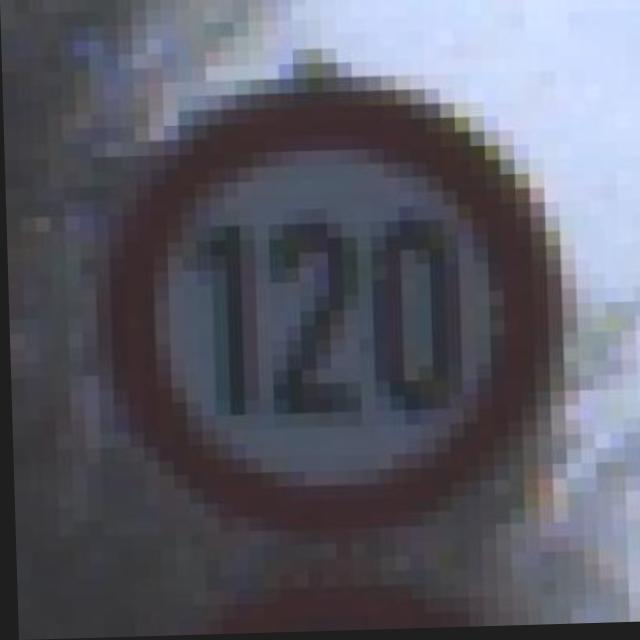limit120: (80, 60, 588, 545)
